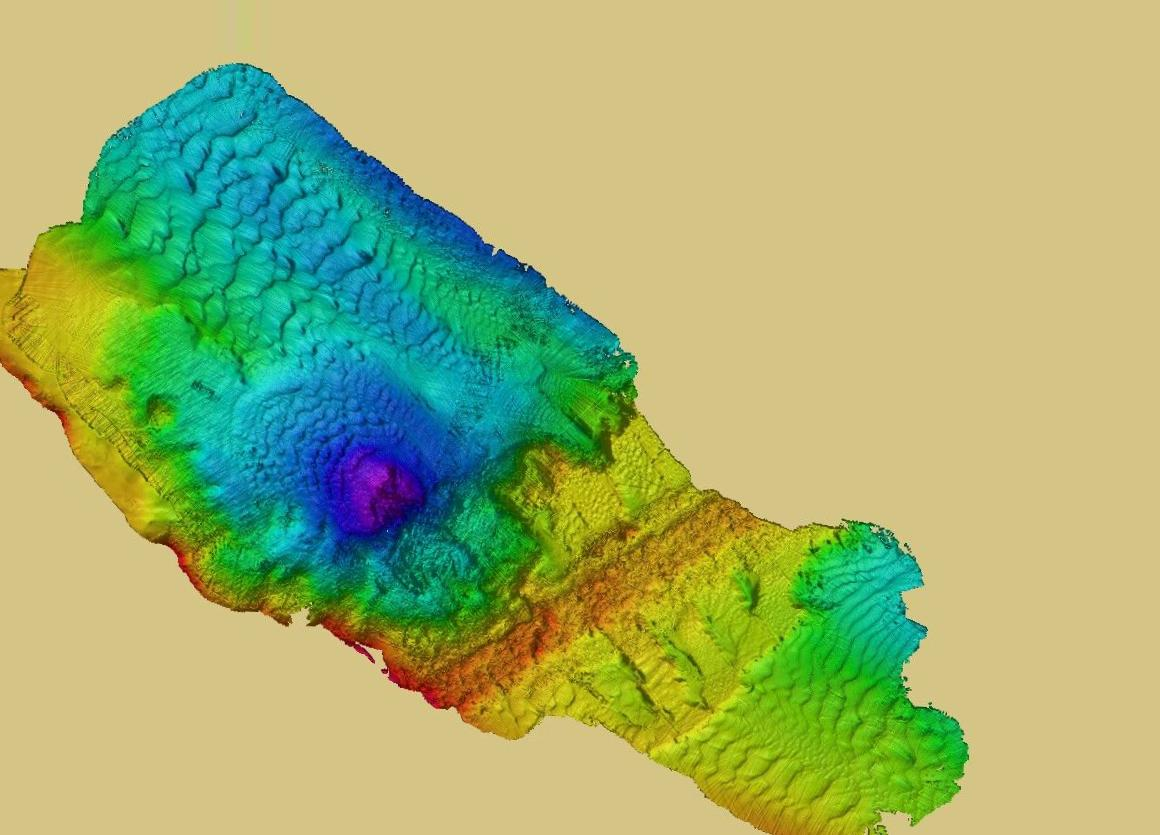Dune: (168, 101, 331, 329), (805, 532, 967, 665), (691, 737, 889, 823), (322, 236, 462, 353), (236, 374, 364, 482), (769, 646, 907, 740)
Scarp: (1, 338, 192, 565), (160, 507, 354, 664)
Scour pit: (326, 448, 459, 553)
Submerged dike: (353, 578, 602, 750), (584, 498, 794, 622)
